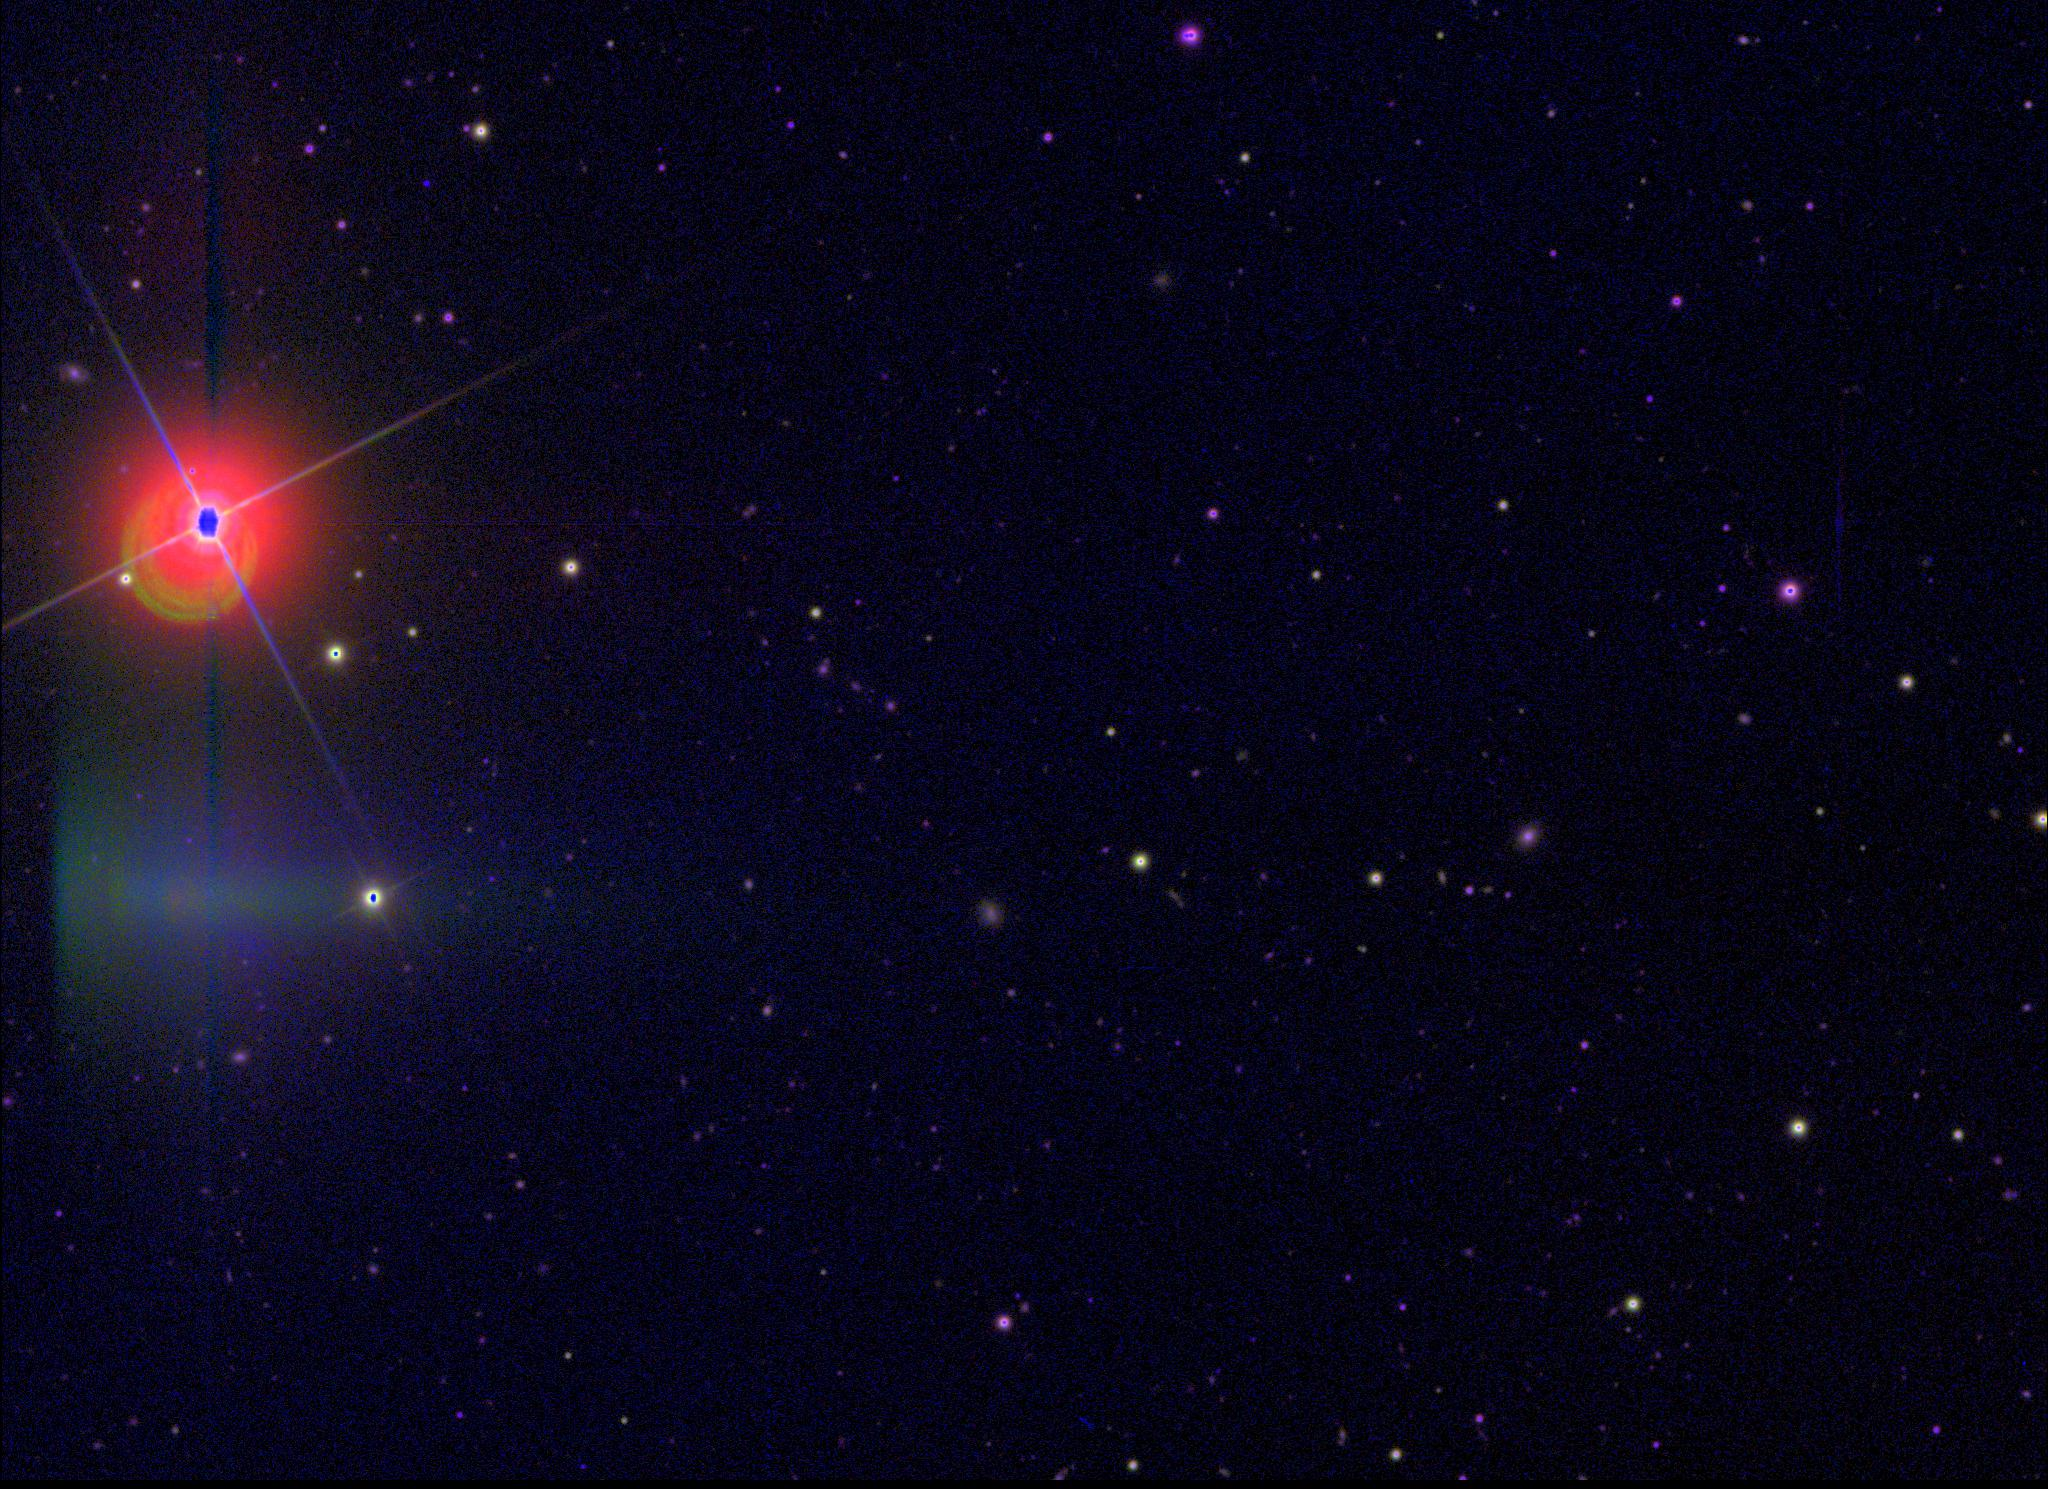L: (420, 175, 432, 189)
